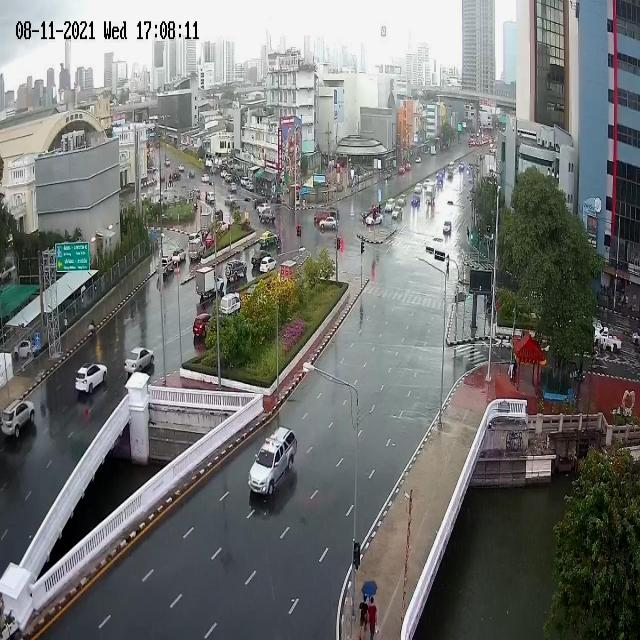Car: (248, 425, 298, 498), (124, 347, 154, 374), (193, 311, 214, 339), (225, 259, 248, 283), (13, 340, 32, 358), (319, 216, 338, 232), (251, 250, 270, 266), (258, 207, 276, 223), (364, 211, 382, 227), (259, 231, 276, 247), (172, 247, 186, 264), (224, 194, 238, 207), (326, 210, 340, 223), (188, 232, 201, 246), (314, 211, 328, 224), (205, 233, 215, 250), (211, 209, 223, 222), (592, 318, 604, 331), (205, 191, 216, 205), (256, 203, 269, 214), (219, 220, 230, 233), (392, 206, 402, 220), (397, 194, 407, 207), (172, 170, 182, 182), (633, 329, 640, 346), (443, 220, 451, 234), (413, 182, 422, 194), (193, 188, 202, 200), (201, 172, 209, 184), (362, 210, 374, 218), (446, 169, 454, 180), (448, 162, 454, 175), (188, 170, 196, 179), (225, 173, 233, 182), (220, 170, 228, 178), (178, 164, 185, 173), (165, 158, 171, 166), (459, 163, 464, 172)
Cycle: (276, 240, 283, 253)
Truck: (195, 264, 224, 300), (594, 326, 622, 353), (188, 238, 206, 260), (199, 210, 212, 237), (425, 182, 435, 206), (0, 265, 11, 280), (430, 146, 437, 155)
Van: (220, 293, 242, 314), (384, 198, 395, 213)
